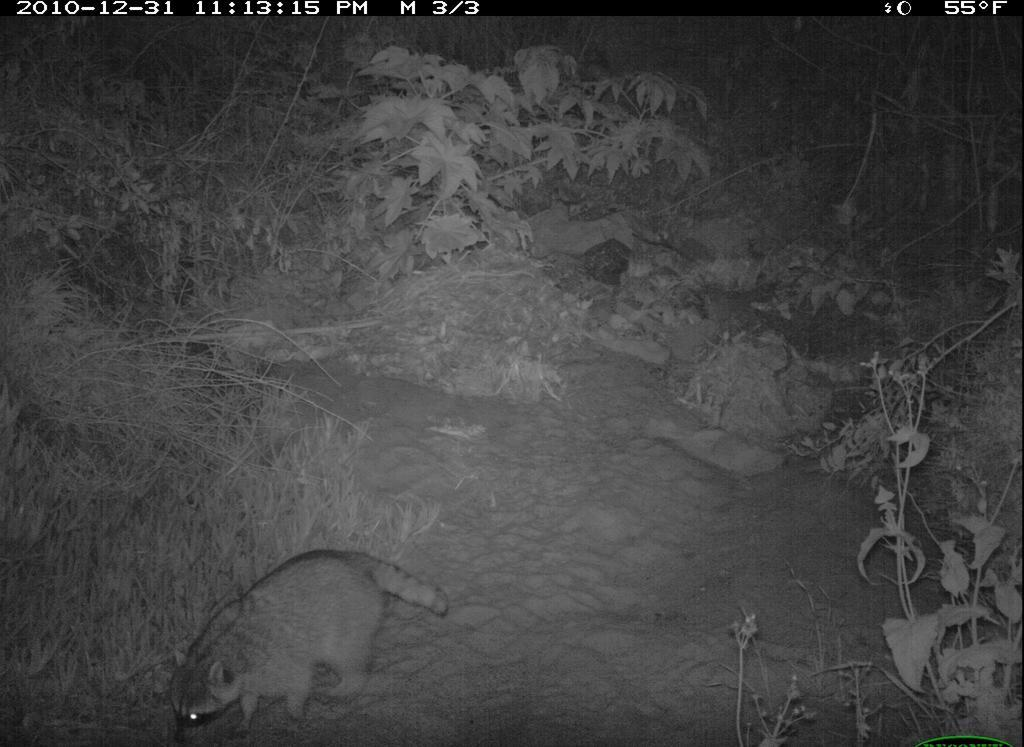raccoon: (126, 532, 482, 745)
